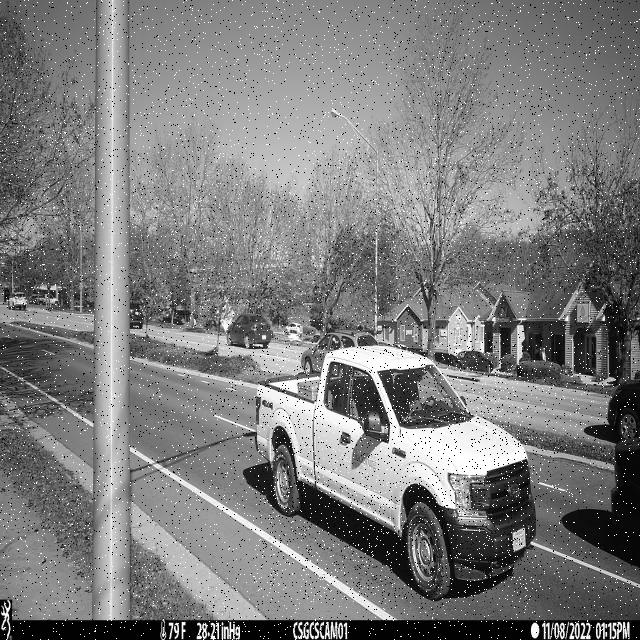Pickup: (255, 345, 537, 602)
